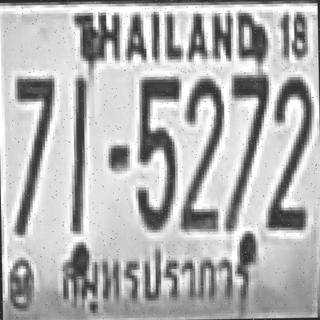N00: (134, 127, 176, 230)
N02: (177, 125, 218, 228), (264, 130, 305, 228)
N07: (13, 76, 54, 172), (14, 76, 53, 164), (228, 72, 267, 157)
P57: (51, 253, 255, 313)
